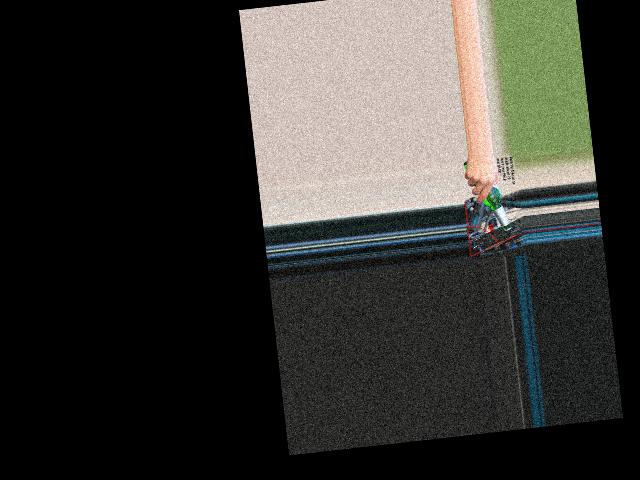beer: (463, 157, 511, 236)
